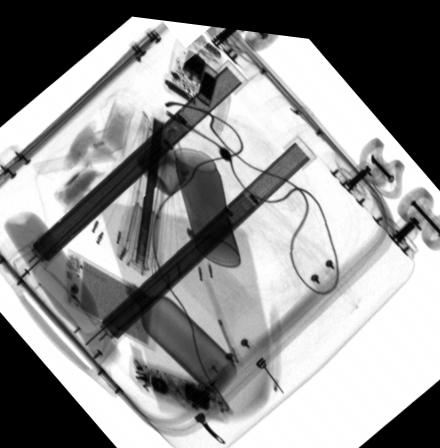Powerbank: (65, 245, 155, 346)
